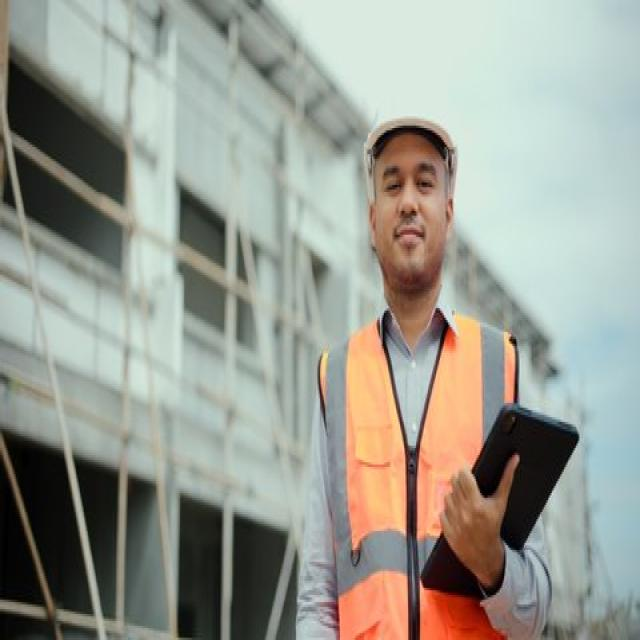helmet: (361, 76, 463, 176)
no-goggles: (369, 160, 459, 217)
vest: (314, 304, 528, 640)
